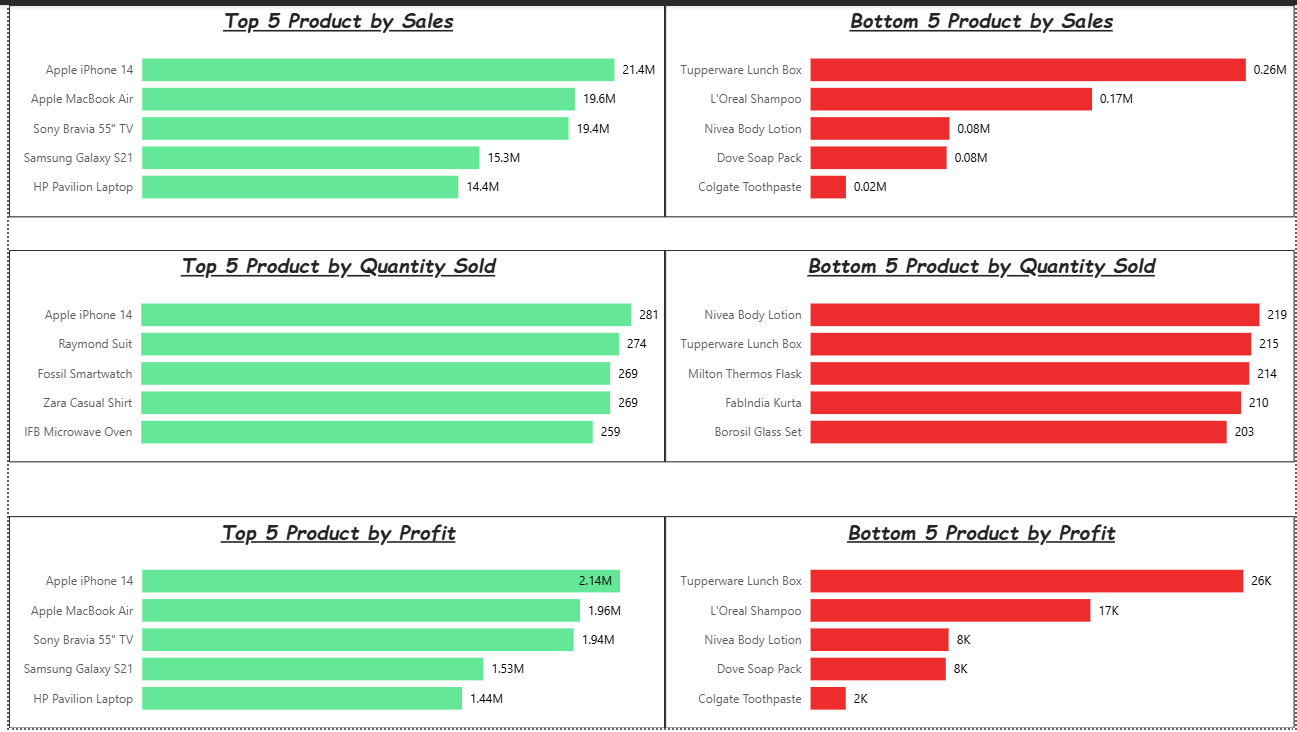

What the dashboard file says about the page in this screenshot:
{"tool":"powerbi","page":{"name":"Top/Bottom 5 Analysis","canvas":[1280,720],"ordinal":1},"visuals":[{"type":"barChart","title":"Top 5 Product by Sales","fields":{"Category":["Dim Product.Product Name"],"Y":["Sum(Fact Table.Net Sales)"]},"box":[0,0,653.2,211.3],"z":0},{"type":"barChart","title":"Bottom 5 Product by Sales","fields":{"Category":["Dim Product.Product Name"],"Y":["Sum(Fact Table.Net Sales)"]},"box":[653.2,0,627.1,211.3],"z":1000},{"type":"barChart","title":"Top 5 Product by Quantity Sold","fields":{"Category":["Dim Product.Product Name"],"Y":["Sum(Fact Table.Units Sold)"]},"box":[0,244.3,653.2,211.3],"z":2000},{"type":"barChart","title":"Bottom 5 Product by Quantity Sold","fields":{"Category":["Dim Product.Product Name"],"Y":["Sum(Fact Table.Units Sold)"]},"box":[653.2,244.3,627.1,211.3],"z":3000},{"type":"barChart","title":"Top 5 Product by Profit","fields":{"Category":["Dim Product.Product Name"],"Y":["Sum(Fact Table.Profit)"]},"box":[0,509.1,653.2,211.3],"z":4000},{"type":"barChart","title":"Bottom 5 Product by Profit","fields":{"Category":["Dim Product.Product Name"],"Y":["Sum(Fact Table.Profit)"]},"box":[653.2,509.1,627.1,211.3],"z":5000}]}

Visuals, with their boxes in screenshot pixels (x1, y1, x2, y2), scaled from the page's 1280x720 canvas onto the 1297x732 screenshot:
"Top 5 Product by Sales" barChart: select_region(0, 0, 662, 215)
"Bottom 5 Product by Sales" barChart: select_region(662, 0, 1296, 215)
"Top 5 Product by Quantity Sold" barChart: select_region(0, 248, 662, 463)
"Bottom 5 Product by Quantity Sold" barChart: select_region(662, 248, 1296, 463)
"Top 5 Product by Profit" barChart: select_region(0, 518, 662, 731)
"Bottom 5 Product by Profit" barChart: select_region(662, 518, 1296, 731)
